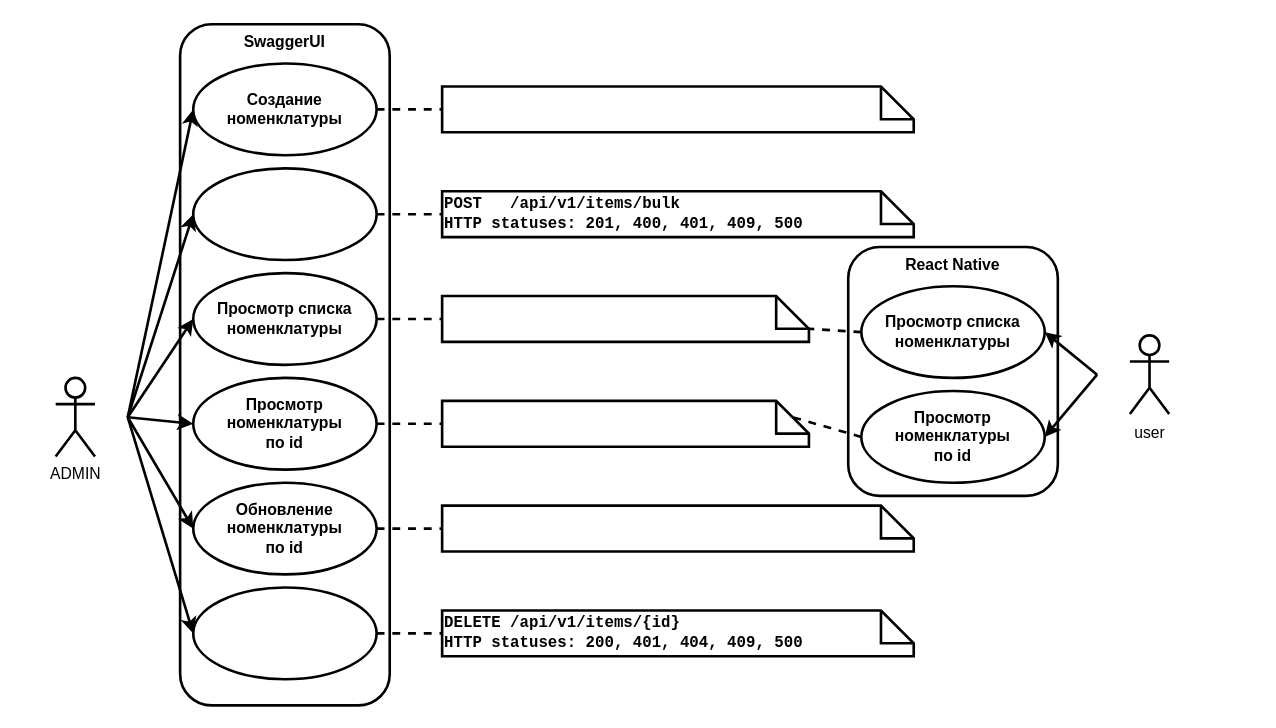
The diagram is 1276 pixels wide and 728 high, and some of its shapes have lost their labels. The centre of each missing label's shape, as x and y in pixels:
"GET /api/v1/items HTTP statuses: 200, 409, 500" goes at point (625, 318).
"GET /api/v1/items/{id} HTTP statuses: 200, 404, 409, 500" goes at point (625, 423).
"PATCH /api/v1/items/{id} HTTP statuses: 200, 400, 401, 404, 409, 500" goes at point (677, 528).
"POST /api/v1/items HTTP statuses: 201, 400, 401, 409, 500" goes at point (677, 108).
"Создание несколько номенклатур" goes at point (284, 213).
"Удаление номенклатуры по id" goes at point (284, 633).
